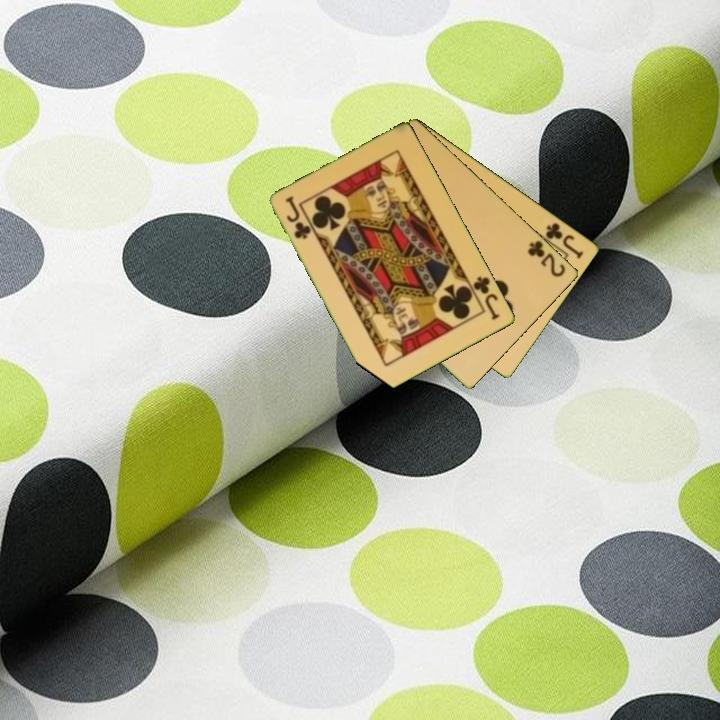2c: (524, 237, 569, 280)
Jc: (542, 219, 587, 262), (465, 273, 503, 323), (282, 193, 314, 242)
